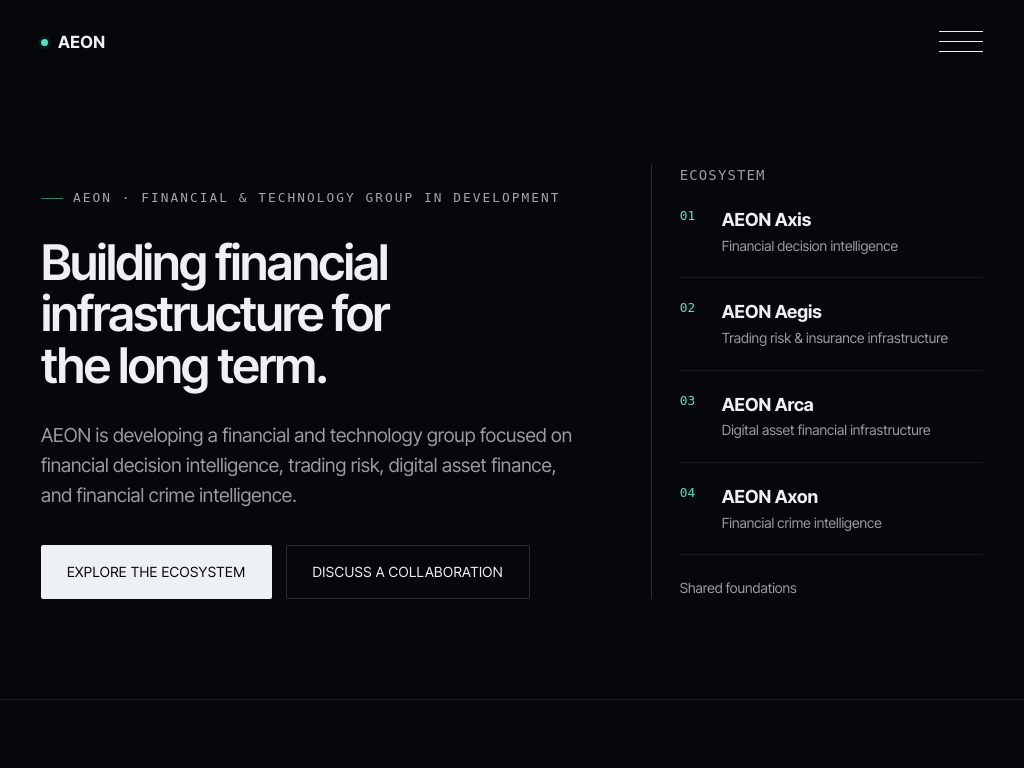
it: Localized React navigation › closes the mobile menu after navigation
Click the button named "Navigation menu". click: [961, 42]
box: [939,20,983,64]
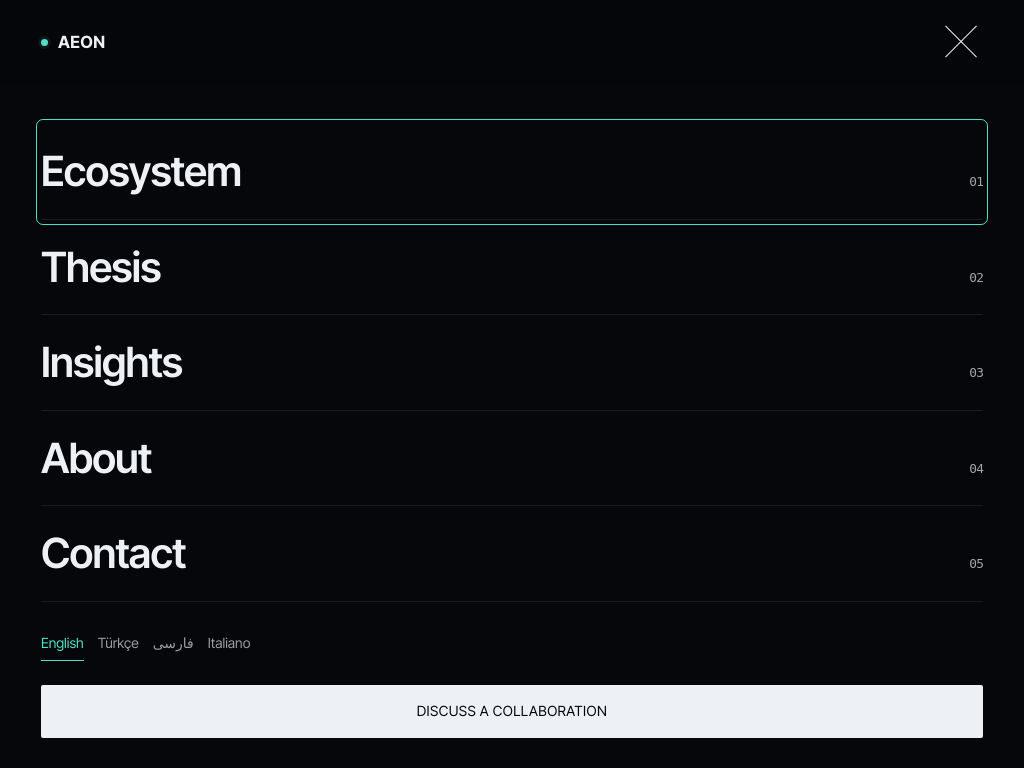
Click the link "About 04". click: [96, 458]
box: [41,411,983,506]
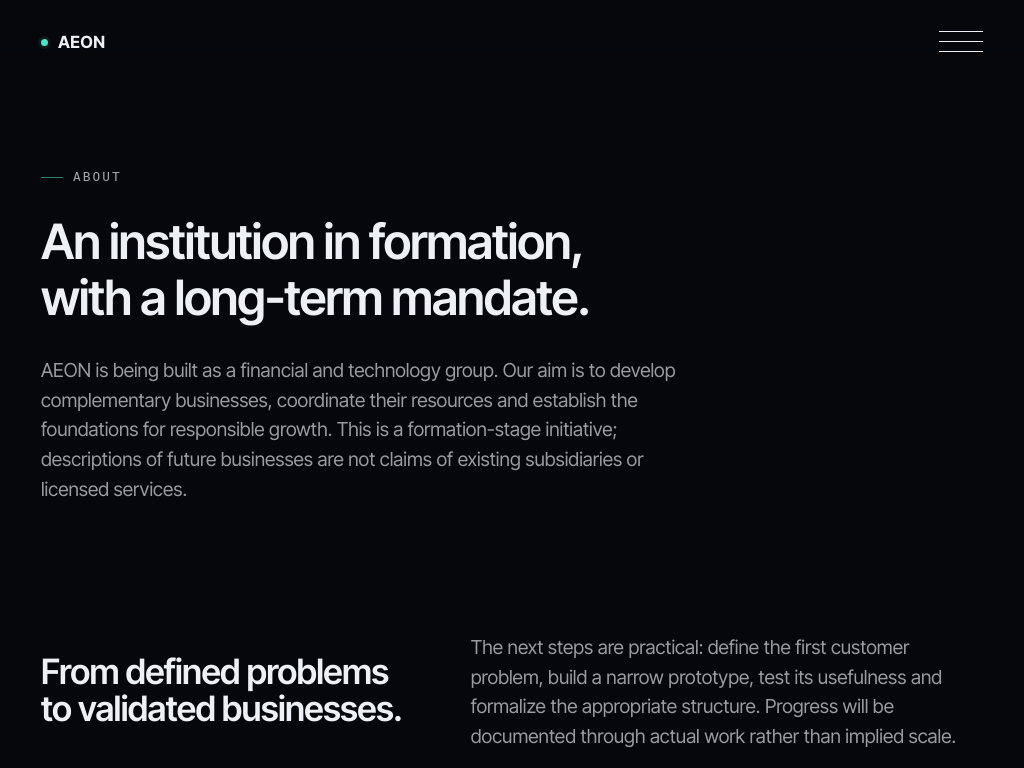
Now the heading "An institution in formation, with a long-term mandate." is shown, box [41,212,590,327]
Now the button named "Navigation menu" is collapsed, box [939,20,983,64]
